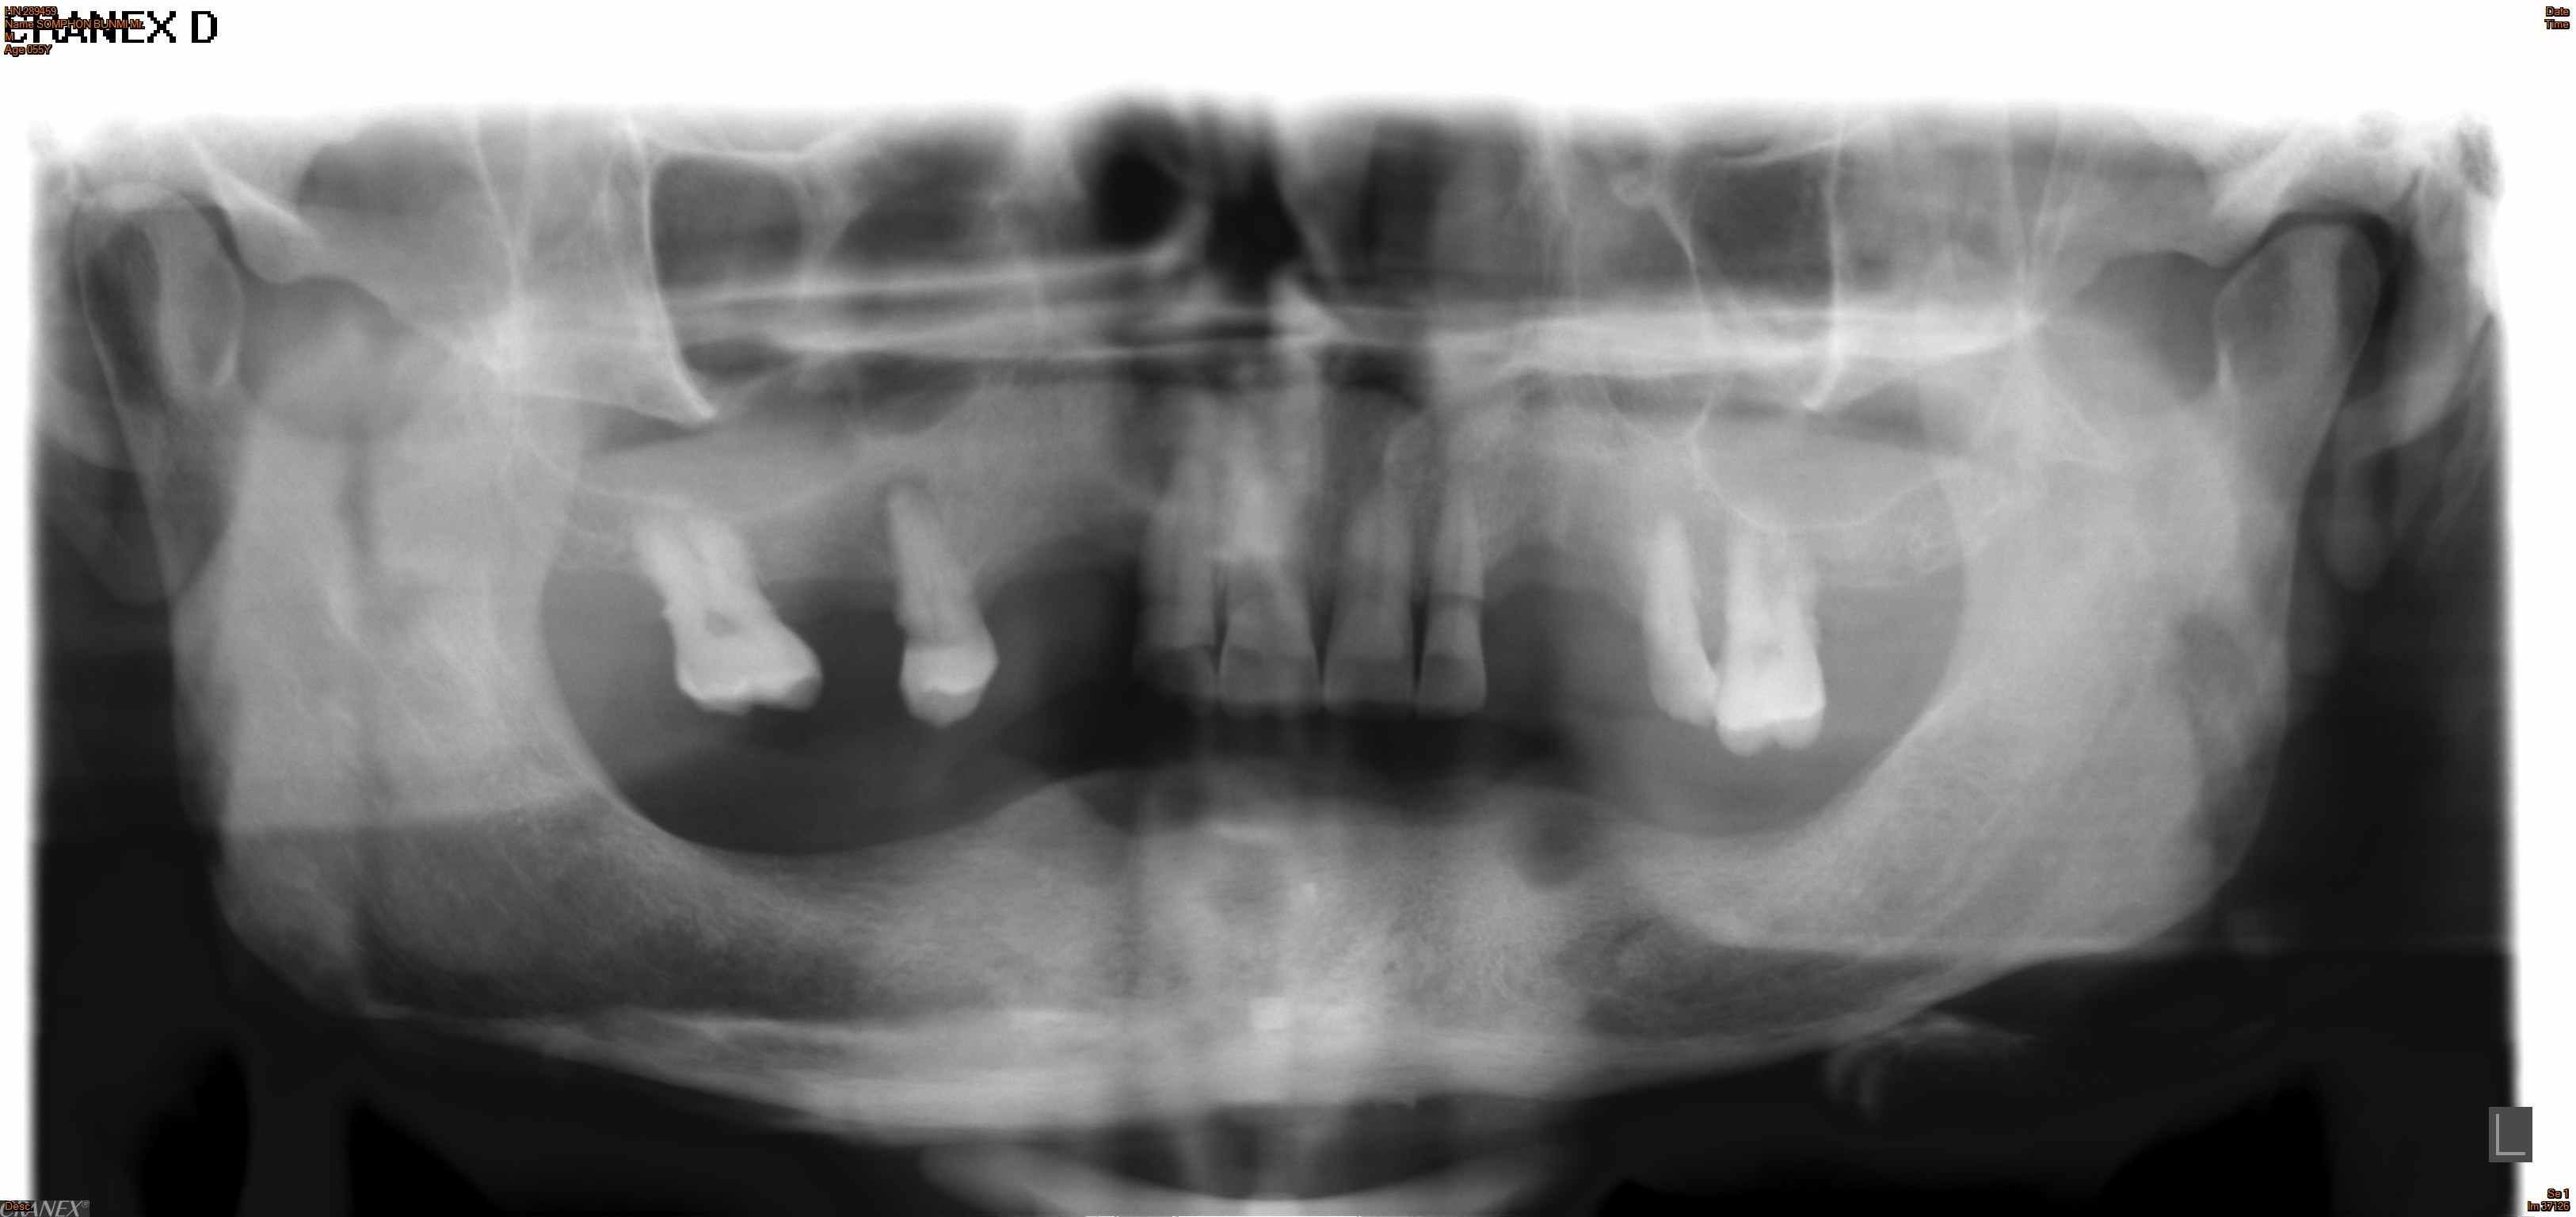periodontitis: (614, 503, 843, 726), (874, 463, 1014, 736), (1707, 501, 1835, 767), (1626, 488, 1735, 736)
